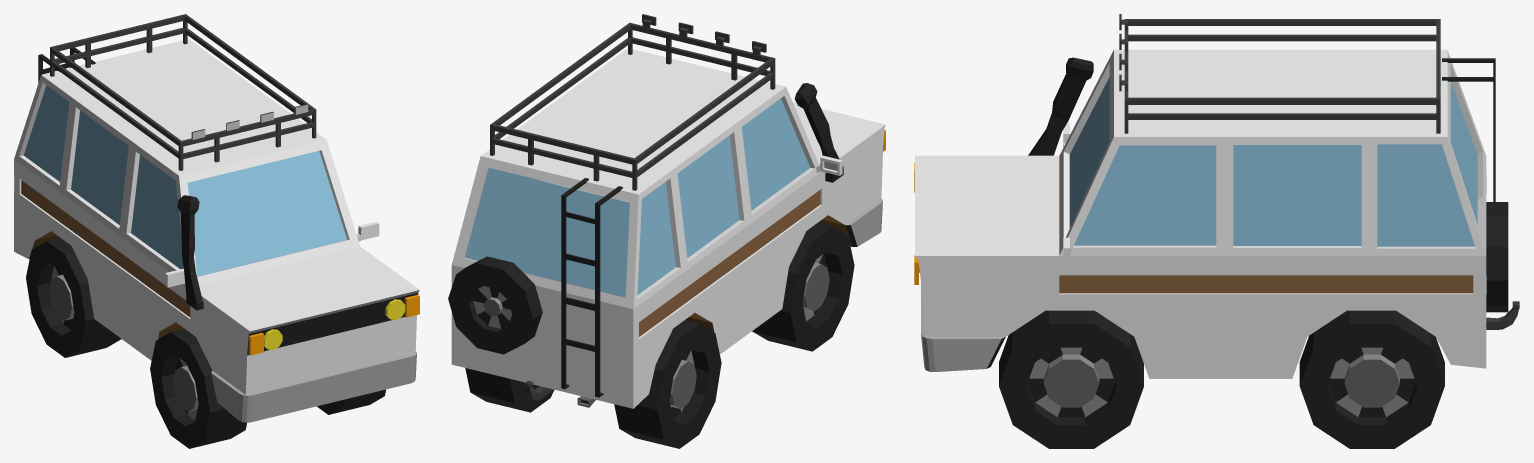
Rendered from off-roader.glb.
The picture shows the model from 3 angles, left to right: view 1: azimuth 30°, elevation 25°; view 2: azimuth 150°, elevation 25°; view 3: azimuth 270°, elevation 25°; orthographic projection. The views are drawn at different scales.
Parts seen in each view (by area): view 1: chassis, extra-car-stuff, front-right-tire, back-right-tire, front-left-tire; view 2: chassis, extra-car-stuff, back-right-tire, front-right-tire, back-left-tire; view 3: chassis, extra-car-stuff, back-left-tire, front-left-tire.
Boxes of the visible parts, x1=… form: chassis: x1=14, y1=39, x2=419, y2=422; extra-car-stuff: x1=23, y1=14, x2=419, y2=355; front-right-tire: x1=150, y1=328, x2=246, y2=448; back-right-tire: x1=26, y1=238, x2=121, y2=357; front-left-tire: x1=317, y1=389, x2=385, y2=414; chassis: x1=451, y1=48, x2=885, y2=408; extra-car-stuff: x1=448, y1=14, x2=885, y2=407; back-right-tire: x1=614, y1=320, x2=721, y2=448; front-right-tire: x1=752, y1=223, x2=854, y2=351; back-left-tire: x1=465, y1=368, x2=554, y2=412; chassis: x1=915, y1=49, x2=1486, y2=378; extra-car-stuff: x1=914, y1=14, x2=1519, y2=329; back-left-tire: x1=1299, y1=310, x2=1444, y2=448; front-left-tire: x1=999, y1=310, x2=1143, y2=448.
Bounding box in the file's own units: 3.73 × 4.85 × 7.64.
1 material, 1 textured.
